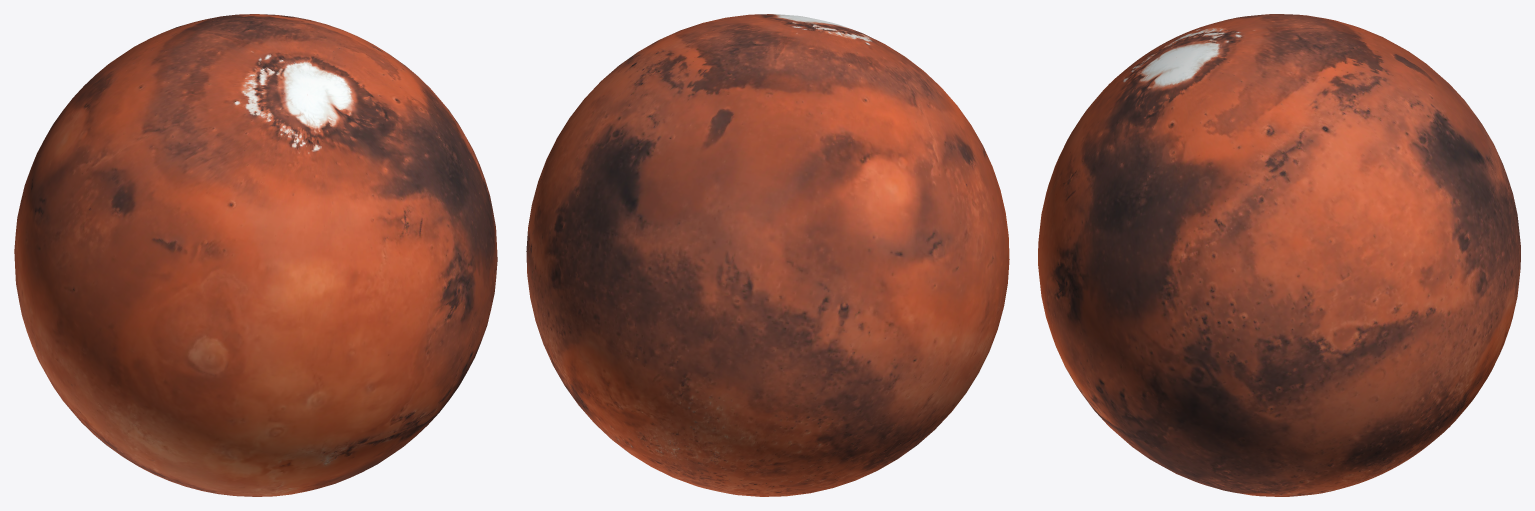
The model's file is Mars.glb.
The picture shows the model from 3 angles, left to right: view 1: azimuth 30°, elevation 25°; view 2: azimuth 150°, elevation 25°; view 3: azimuth 270°, elevation 25°; orthographic projection.
Parts seen in each view (by area): view 1: Mars; view 2: Mars; view 3: Mars.
Boxes of the visible parts, x1,y1,x2,y2 form: Mars: (14,14,497,496); Mars: (526,14,1009,496); Mars: (1038,14,1520,496).
Bounding box in the file's own units: 1.06 × 1.06 × 1.06.
1 material, 1 textured.
